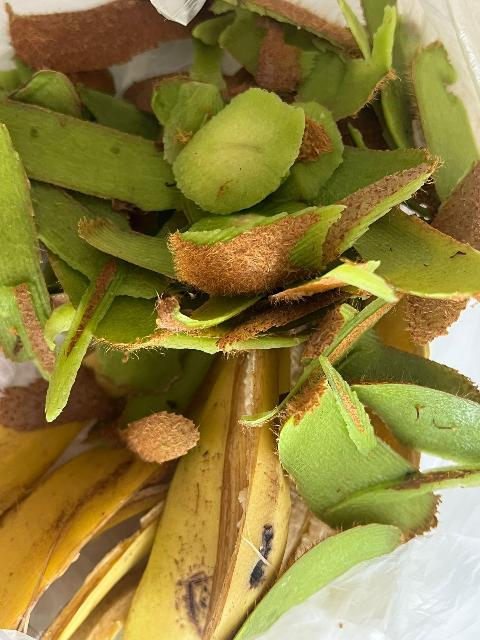Organik: (0, 380, 205, 640), (125, 341, 302, 640), (158, 148, 437, 291), (261, 377, 448, 547), (12, 100, 177, 208), (28, 272, 120, 441), (181, 89, 311, 208), (0, 0, 188, 72), (214, 0, 375, 83), (406, 45, 480, 223), (97, 412, 219, 483), (314, 72, 406, 145), (67, 222, 189, 272), (366, 289, 475, 344)
